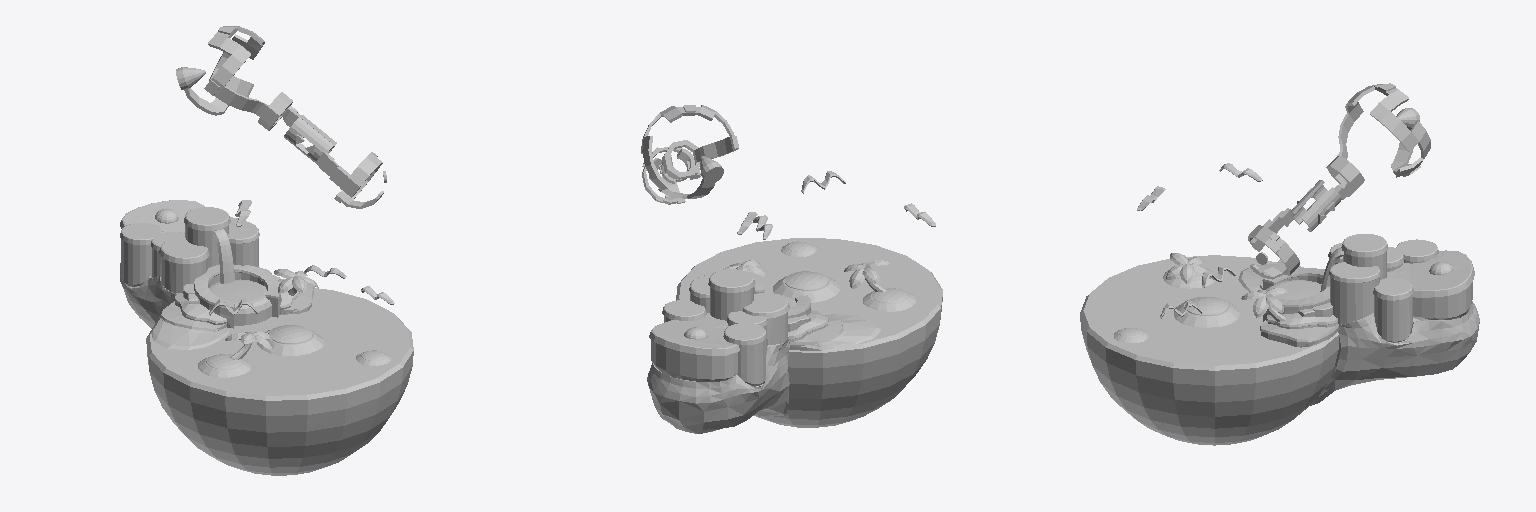
The model's file is miniheavenlybeachgalaxy.obj.
3 renders of one model, left to right at view 1: azimuth 30°, elevation 25°; view 2: azimuth 150°, elevation 25°; view 3: azimuth 270°, elevation 25°, orthographic.
Parts seen in each view (by area): view 1: obj9, obj2, obj13, obj15, obj17, obj18, obj16, obj12, obj11, obj3, obj1, obj8 (+1 smaller); view 2: obj9, obj13, obj15, obj2, obj8, obj1, obj17, obj12, obj11, obj16, obj3, obj14 (+1 smaller); view 3: obj9, obj2, obj13, obj15, obj8, obj1, obj17, obj16, obj12, obj18, obj3, obj11 (+3 smaller).
Boxes of the visible parts, x1=… form: obj9: x1=146, y1=288, x2=413, y2=475; obj2: x1=176, y1=26, x2=386, y2=208; obj13: x1=120, y1=200, x2=259, y2=263; obj15: x1=121, y1=224, x2=258, y2=293; obj17: x1=151, y1=265, x2=311, y2=349; obj18: x1=209, y1=229, x2=271, y2=325; obj16: x1=160, y1=279, x2=314, y2=331; obj12: x1=198, y1=328, x2=391, y2=377; obj11: x1=206, y1=325, x2=385, y2=369; obj3: x1=209, y1=200, x2=394, y2=315; obj1: x1=120, y1=263, x2=177, y2=308; obj8: x1=122, y1=286, x2=163, y2=328; obj9: x1=676, y1=238, x2=942, y2=427; obj13: x1=649, y1=269, x2=789, y2=355; obj15: x1=651, y1=287, x2=787, y2=386; obj2: x1=641, y1=105, x2=738, y2=204; obj8: x1=649, y1=364, x2=789, y2=433; obj1: x1=647, y1=336, x2=789, y2=403; obj17: x1=754, y1=284, x2=881, y2=350; obj12: x1=773, y1=243, x2=916, y2=311; obj11: x1=785, y1=241, x2=907, y2=303; obj16: x1=688, y1=298, x2=843, y2=344; obj3: x1=737, y1=171, x2=935, y2=239; obj14: x1=677, y1=313, x2=727, y2=342; obj9: x1=1080, y1=255, x2=1339, y2=445; obj2: x1=1248, y1=83, x2=1430, y2=279; obj13: x1=1328, y1=234, x2=1474, y2=300; obj15: x1=1330, y1=251, x2=1472, y2=342; obj8: x1=1310, y1=322, x2=1479, y2=405; obj1: x1=1338, y1=301, x2=1479, y2=348; obj17: x1=1238, y1=264, x2=1338, y2=347; obj16: x1=1260, y1=267, x2=1338, y2=341; obj12: x1=1114, y1=267, x2=1239, y2=342; obj18: x1=1266, y1=248, x2=1343, y2=299; obj3: x1=1137, y1=163, x2=1262, y2=318; obj11: x1=1119, y1=266, x2=1228, y2=337.
Bounding box in the file's own units: 6180 × 8542 × 8543.